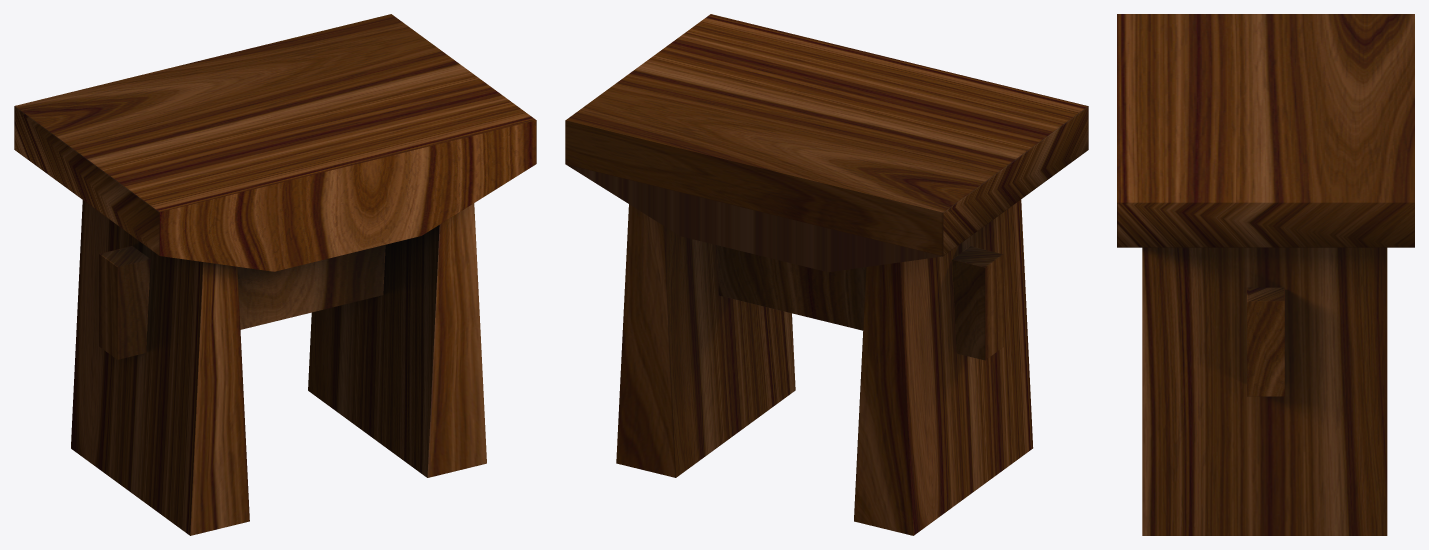
The model's file is temple-stool.FBX.
3 renders of one model, left to right at view 1: azimuth 30°, elevation 25°; view 2: azimuth 150°, elevation 25°; view 3: azimuth 270°, elevation 25°, orthographic. The views are drawn at different scales.
Parts seen in each view (by area): view 1: stool; view 2: stool; view 3: stool.
Boxes of the visible parts, x1=… form: stool: x1=14, y1=14, x2=536, y2=535; stool: x1=565, y1=14, x2=1088, y2=535; stool: x1=1117, y1=14, x2=1414, y2=535.
Bounding box in the file's own units: 59.06 × 51.36 × 39.37.
1 material, 1 textured.
